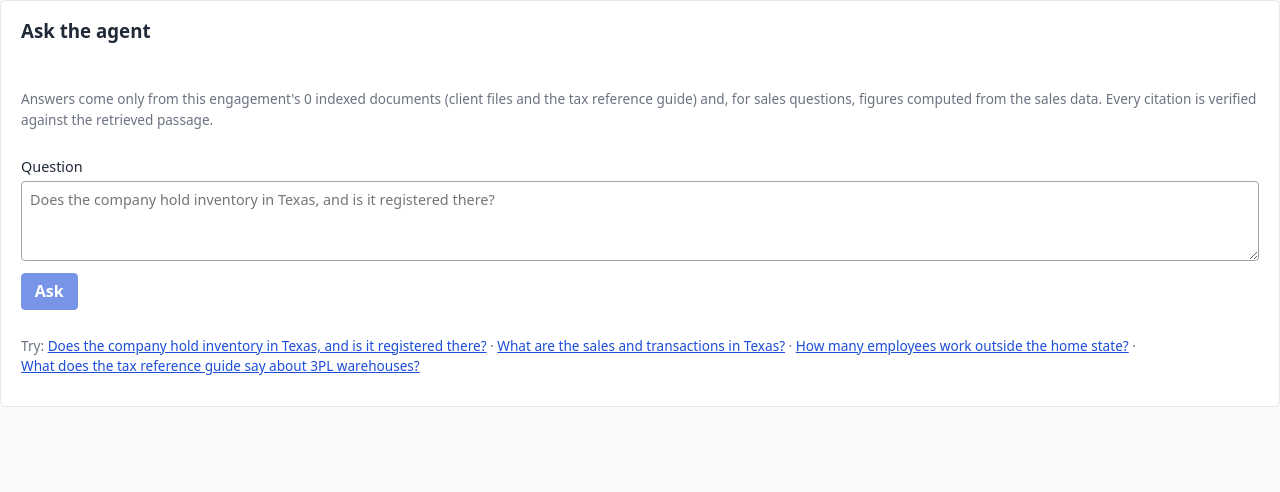
Test case: AskStep › shows backend errors
Type "x" into the text box labelled "Question" at (640, 221), box [21, 181, 1259, 261]
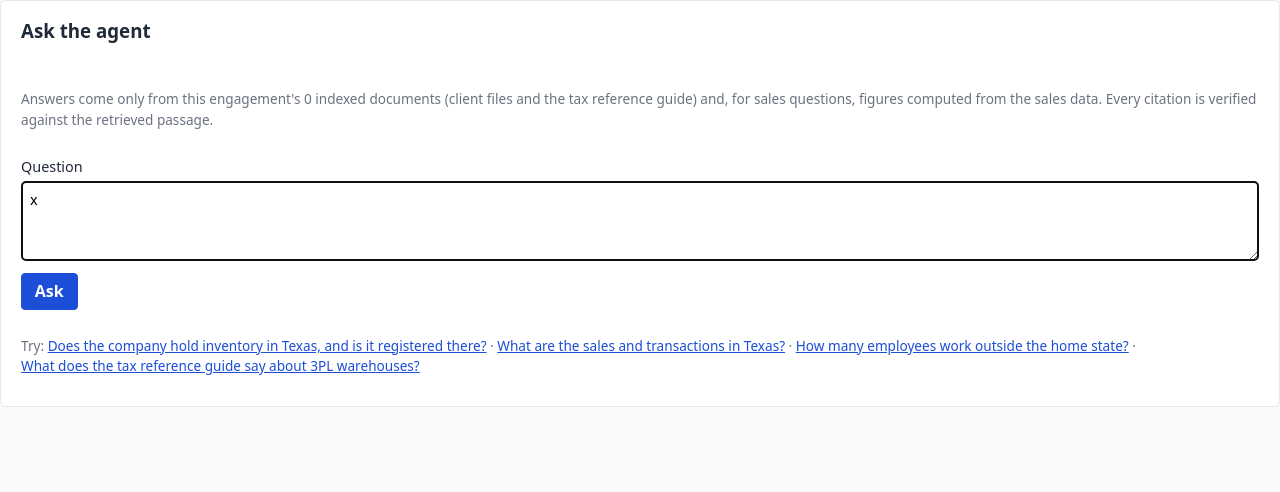
Click the button "Ask" at (49, 292), box [21, 273, 78, 310]
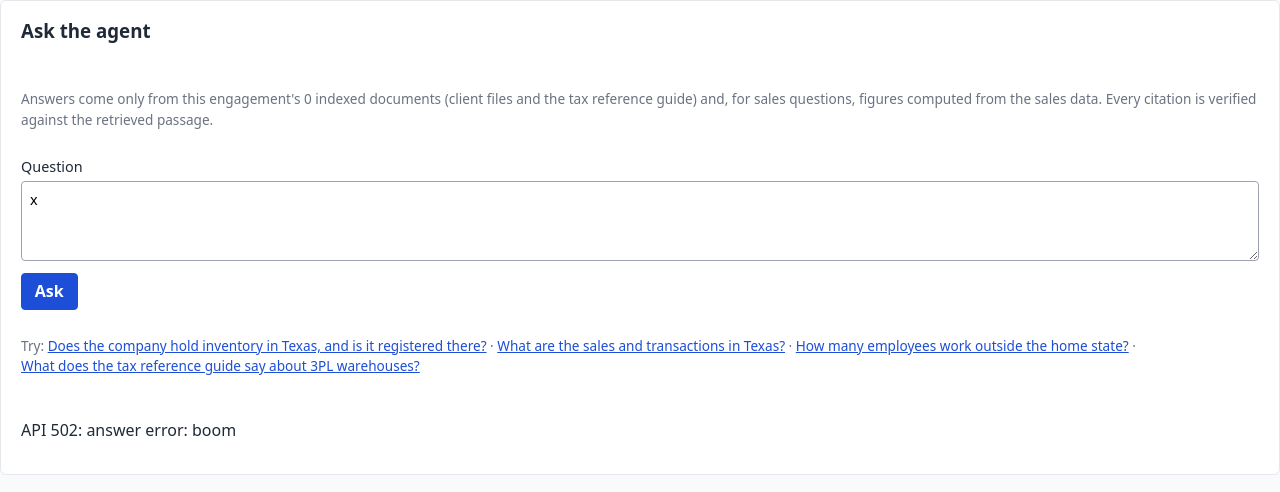
Expected: the message shows "answer error: boom", [21, 419, 236, 441]
